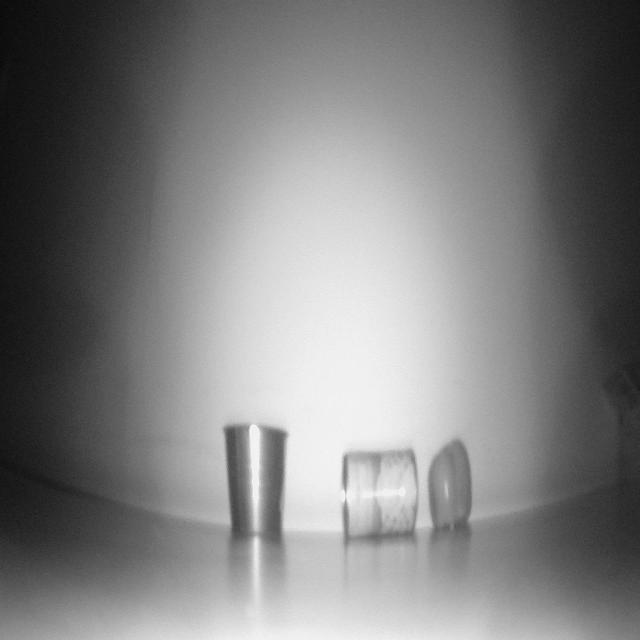targets: (227, 421, 287, 547), (343, 451, 418, 538), (428, 438, 470, 530)
